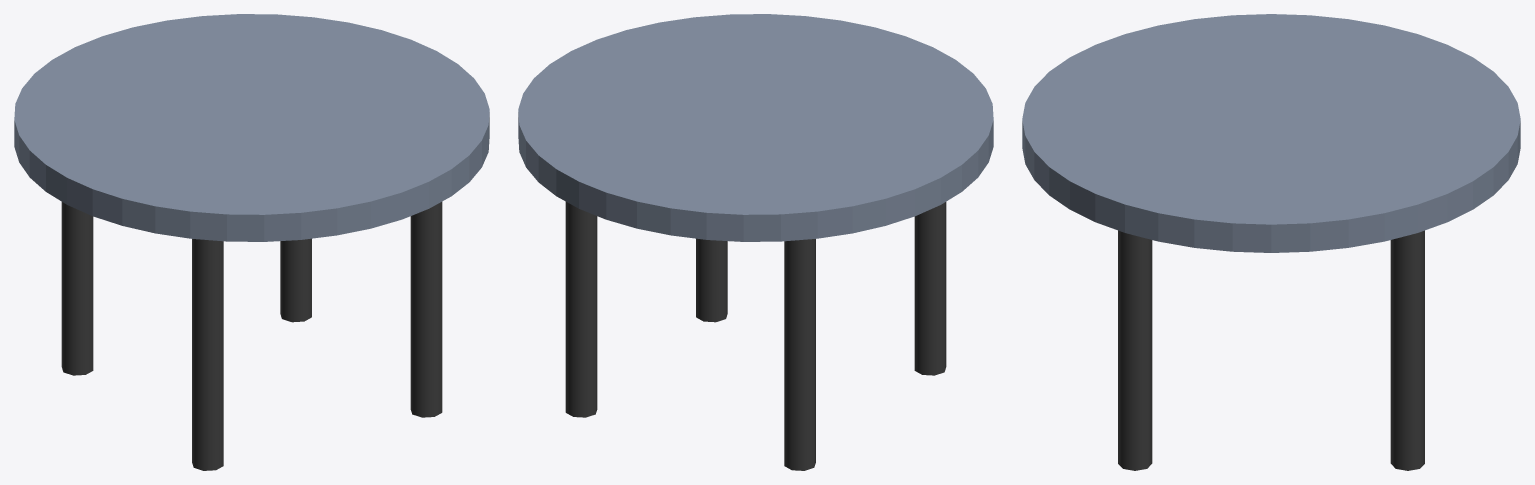
Rendered from CircleTable.fbx.
The picture shows the model from 3 angles, left to right: view 1: azimuth 30°, elevation 25°; view 2: azimuth 150°, elevation 25°; view 3: azimuth 270°, elevation 25°; orthographic projection. The views are drawn at different scales.
Parts seen in each view (by area): view 1: CircleTable; view 2: CircleTable; view 3: CircleTable.
Boxes of the visible parts, bbox=[...] form: CircleTable: bbox=[14, 14, 489, 470]; CircleTable: bbox=[518, 14, 993, 470]; CircleTable: bbox=[1022, 14, 1520, 470].
Bounding box in the file's own units: 292 × 187 × 292.
